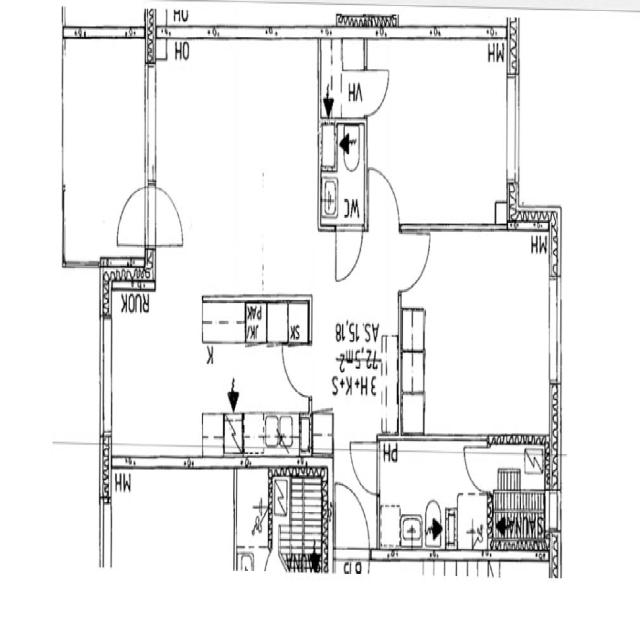door: (332, 477, 371, 560), (149, 178, 188, 253), (112, 179, 150, 253), (397, 224, 433, 294), (367, 161, 402, 229), (348, 434, 382, 498), (333, 224, 364, 286), (281, 340, 311, 400), (461, 438, 491, 497), (362, 63, 393, 117)
window: (96, 314, 118, 439), (545, 268, 566, 392), (501, 70, 523, 188), (141, 59, 160, 184), (95, 496, 113, 573)
zone: (113, 282, 399, 455), (154, 36, 321, 294), (402, 227, 557, 442), (366, 38, 509, 228), (60, 29, 148, 264), (378, 441, 490, 552), (319, 38, 367, 229), (491, 437, 549, 553), (235, 464, 272, 564), (251, 302, 310, 344), (300, 413, 312, 454)
